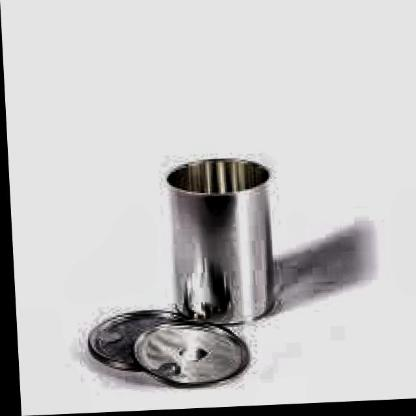Can: (156, 153, 280, 333), (126, 316, 248, 400), (76, 304, 182, 382)
